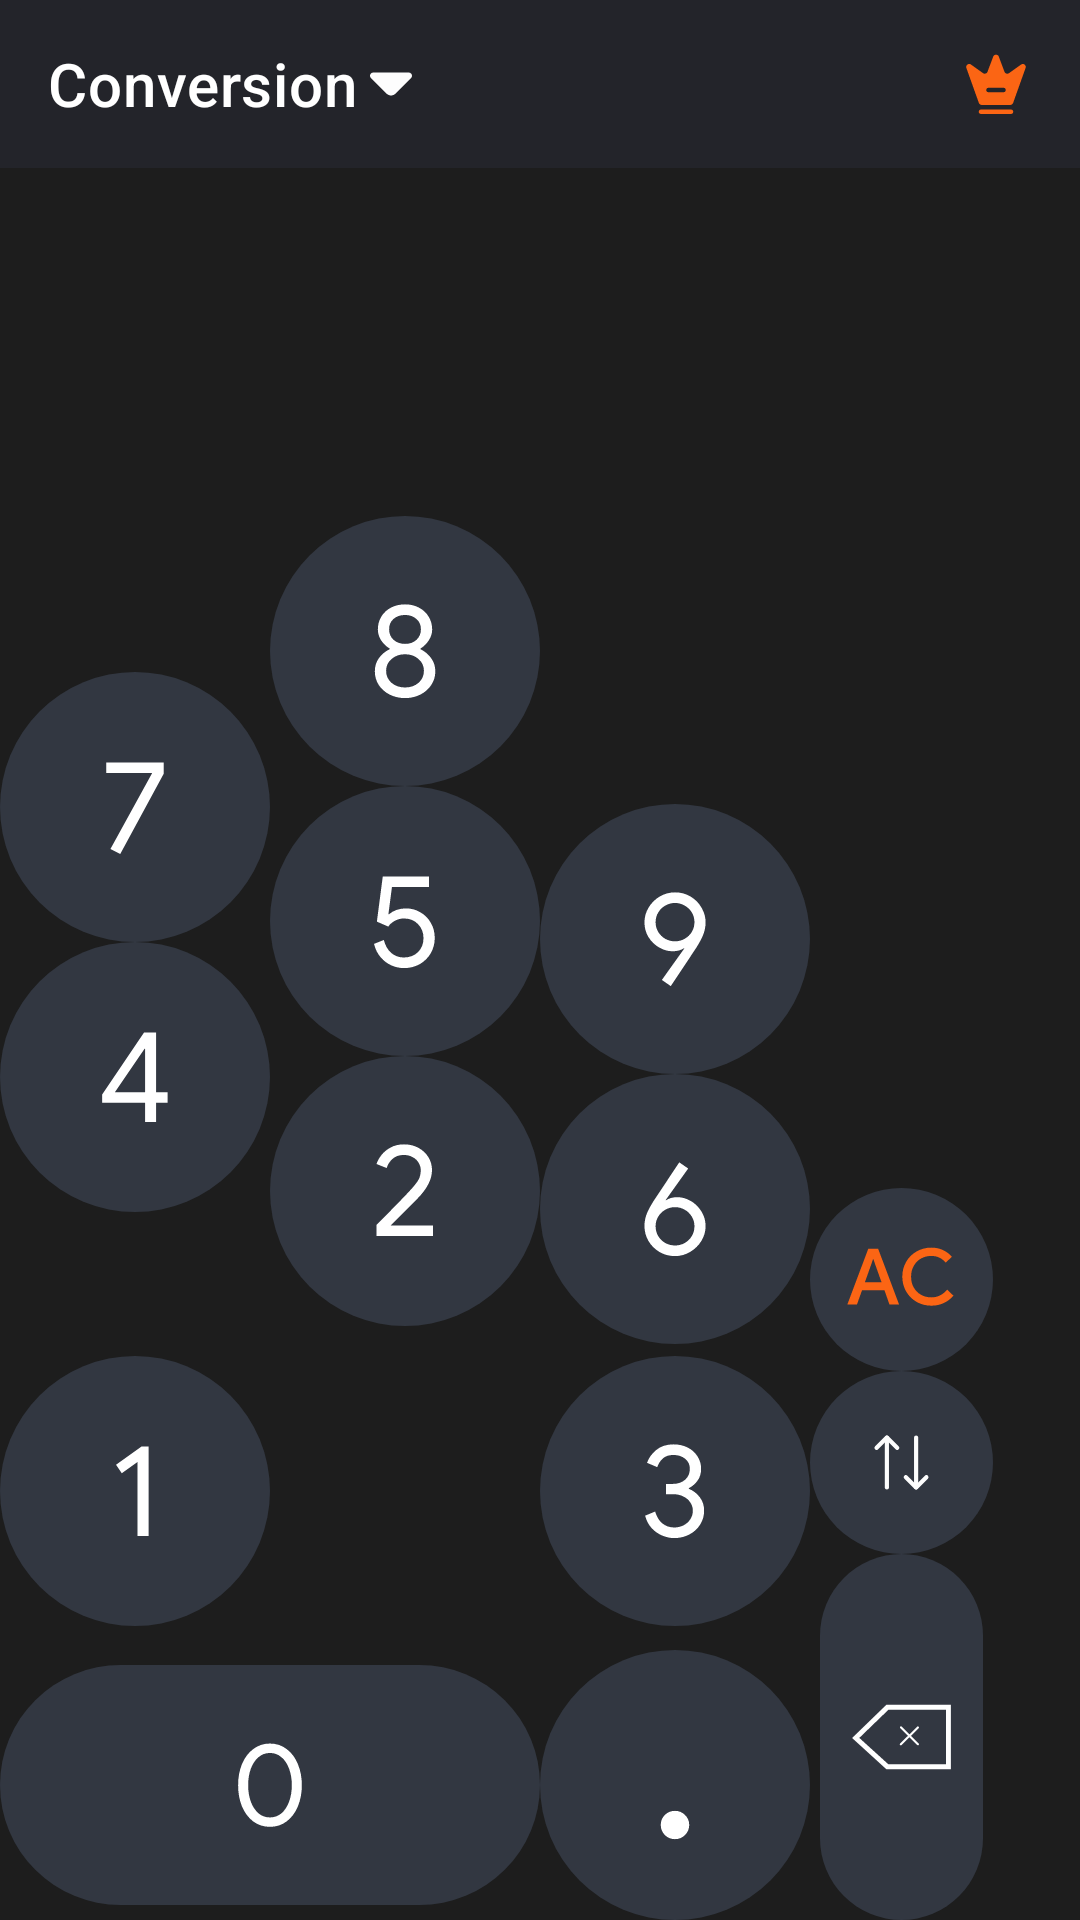

Icon click points for this 1080px x 1920px phone screenshot, format [x,y]:
crown: [996,84]
dot: [675,1785]
